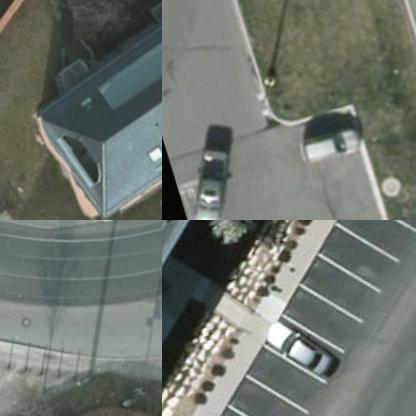car: (258, 308, 338, 390), (294, 120, 358, 167), (64, 220, 122, 230)
pickup: (176, 144, 247, 219)
